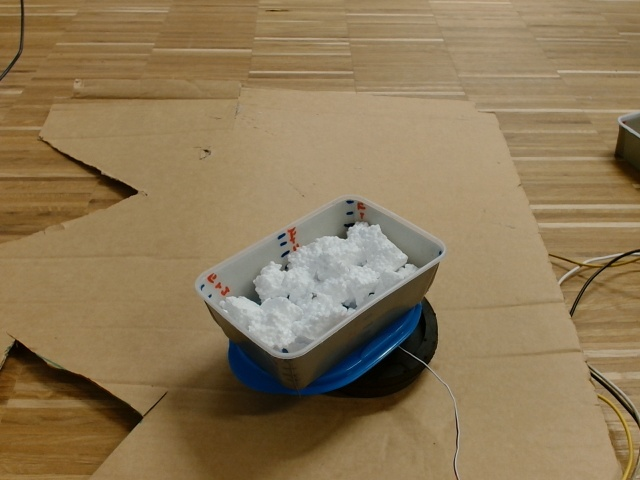Small_half: (198, 197, 444, 359)
